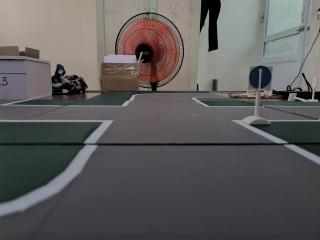straight: (247, 63, 274, 93)
